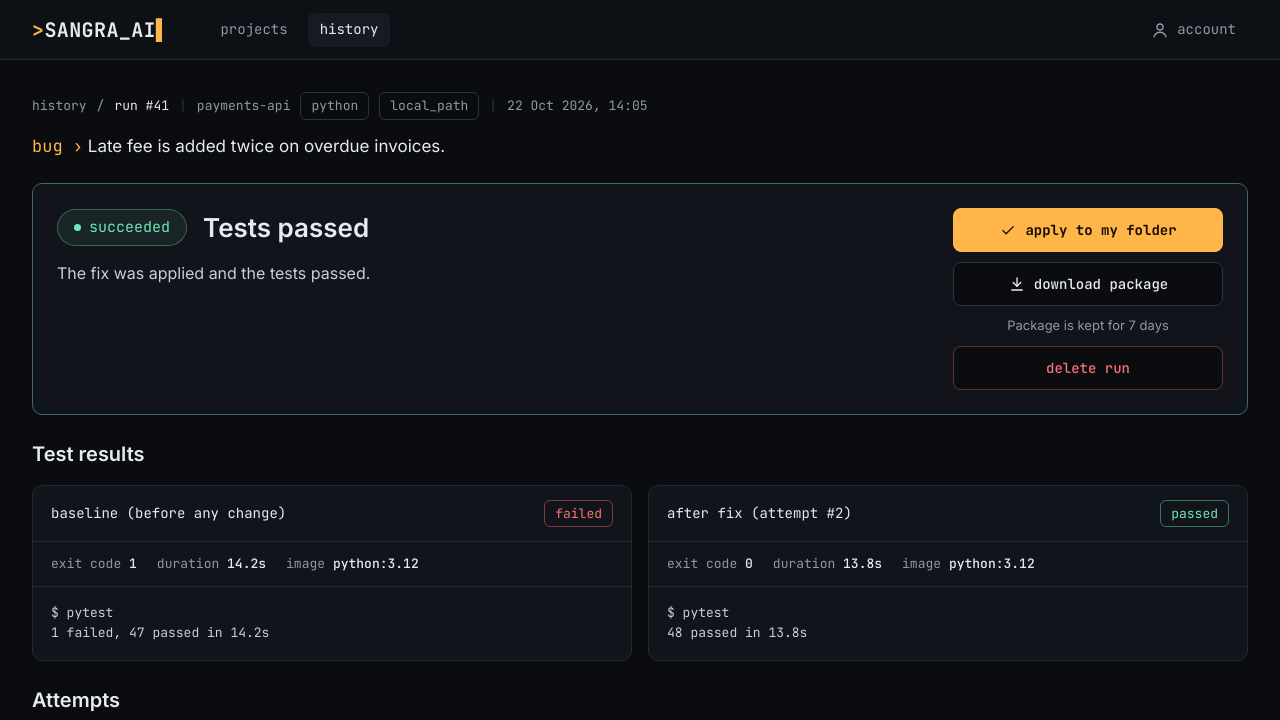
Test case: problems › FE6-X02: SOURCE_CHANGED on apply -> the message
Expected: the element named "result" is shown, [32, 183, 1248, 414]
Click the button "apply to my folder": click(1088, 230) [953, 208, 1223, 252]
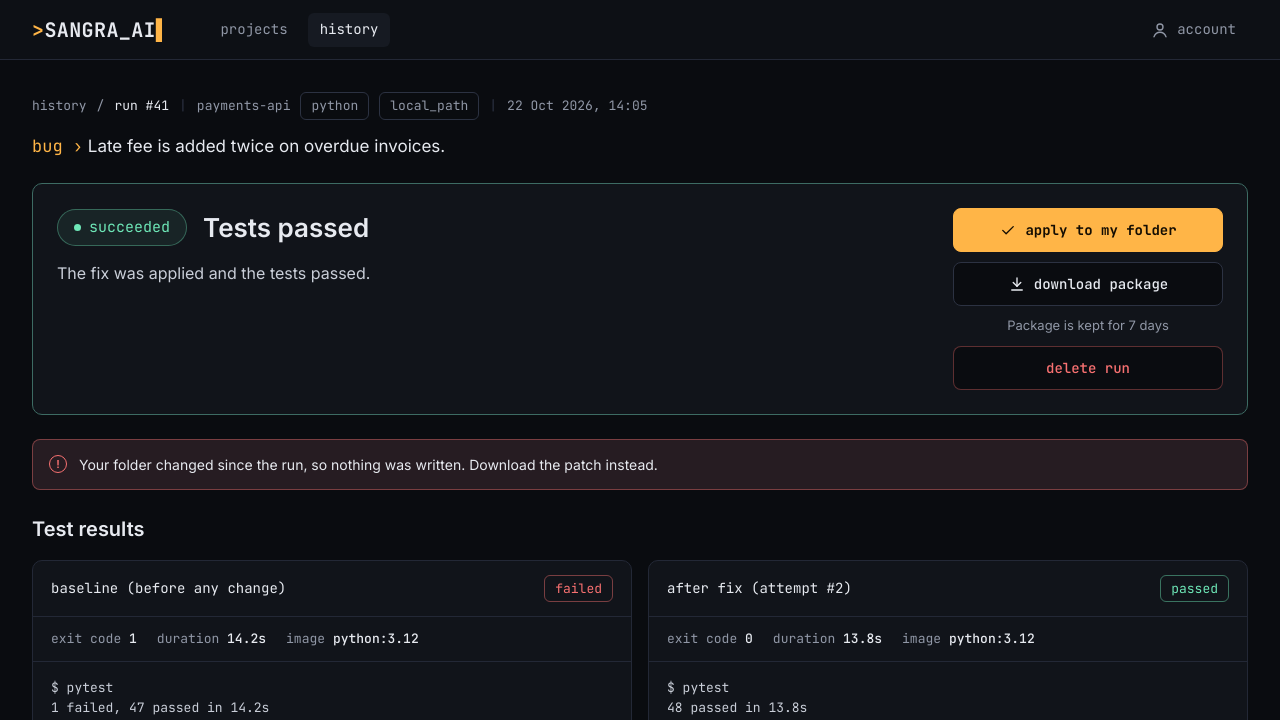
Expected: the message shows "Your folder changed since the run, so nothing was written. Download the patch instead.", [79, 456, 658, 472]
